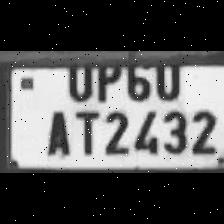0: (151, 53, 183, 99)
2: (185, 105, 219, 155), (98, 105, 130, 157)
3: (158, 105, 188, 155)
4: (130, 105, 160, 155)
6: (121, 54, 150, 102)
A: (39, 105, 71, 157)
P: (94, 54, 122, 102)
T: (70, 105, 100, 155)
U: (62, 54, 94, 100)
